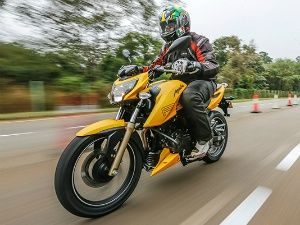helmet: (157, 8, 192, 40)
